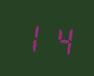four: (46, 20, 72, 58)
one: (19, 17, 45, 55)
